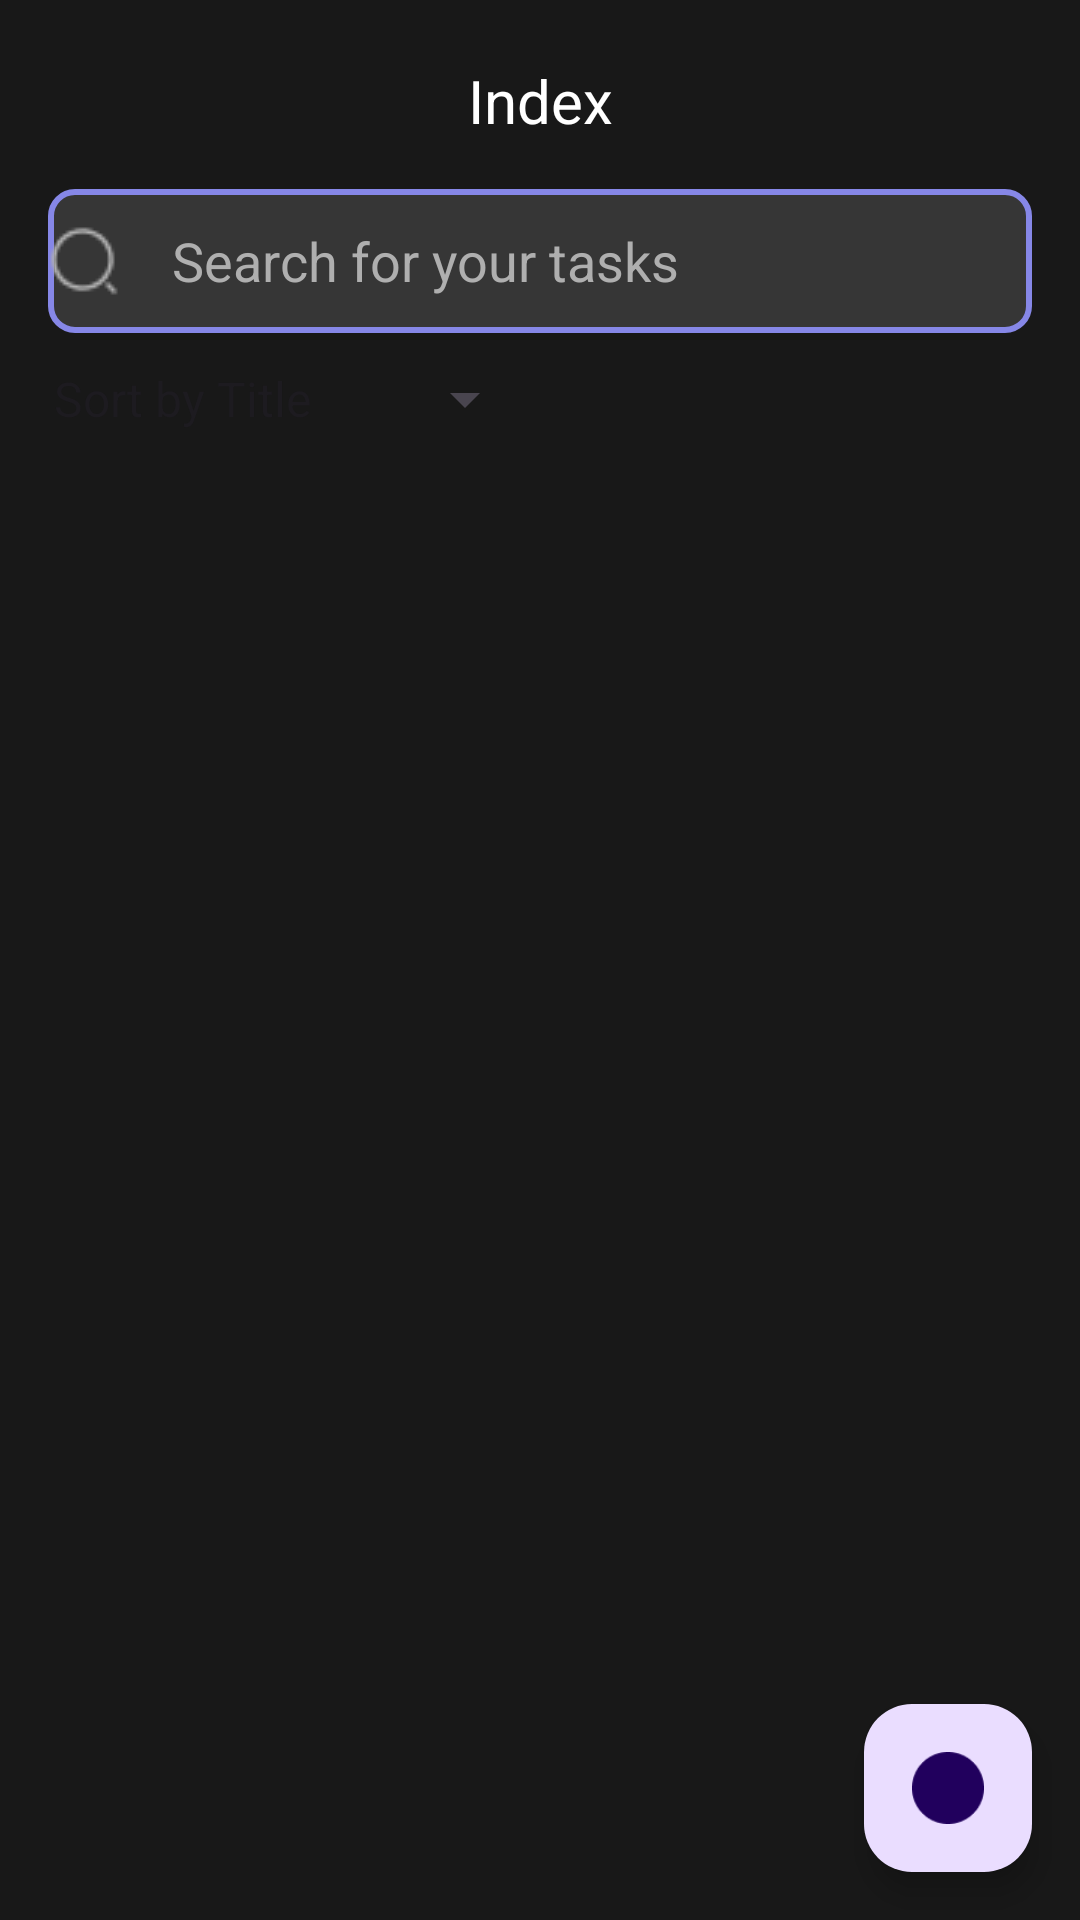

Icons on this 1080x1920 Android screen, each with its box as (x1, y1, x2, y2):
fab: (864, 1704, 1032, 1872)
